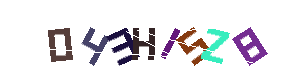1: (112, 0, 192, 80)
3: (93, 0, 173, 80)
4: (54, 0, 134, 80)
5: (151, 0, 231, 80)
8: (190, 0, 270, 80)
H: (108, 0, 188, 80)
O: (21, 0, 101, 80)
Z: (175, 0, 255, 80)
